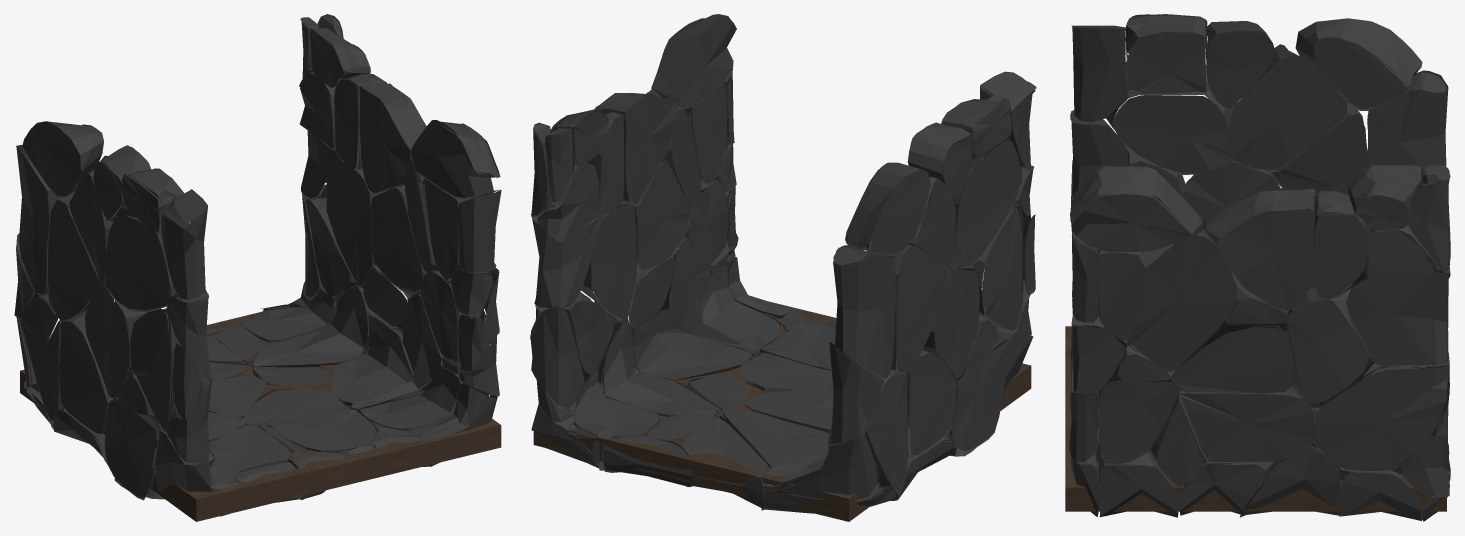
The model's file is Horizontal.fbx.
The picture shows the model from 3 angles, left to right: view 1: azimuth 30°, elevation 25°; view 2: azimuth 150°, elevation 25°; view 3: azimuth 270°, elevation 25°; orthographic projection. The views are drawn at different scales.
Parts seen in each view (by area): view 1: Horizontal_Stone_Path, DIrt_Horizontal; view 2: Horizontal_Stone_Path, DIrt_Horizontal; view 3: Horizontal_Stone_Path, DIrt_Horizontal.
Boxes of the visible parts, x1=… form: Horizontal_Stone_Path: x1=14, y1=14, x2=501, y2=516; DIrt_Horizontal: x1=20, y1=304, x2=501, y2=521; Horizontal_Stone_Path: x1=530, y1=14, x2=1036, y2=513; DIrt_Horizontal: x1=533, y1=301, x2=1031, y2=521; Horizontal_Stone_Path: x1=1069, y1=14, x2=1450, y2=521; DIrt_Horizontal: x1=1065, y1=326, x2=1446, y2=511.
Bounding box in the file's own units: 105 × 100 × 101.
